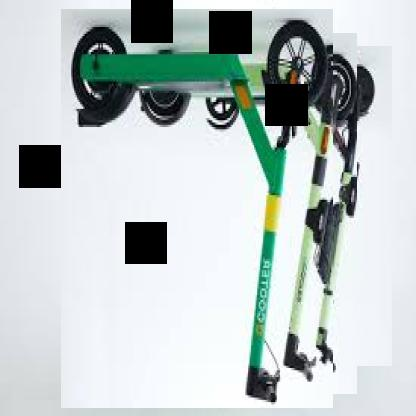kickboard: (61, 10, 333, 410), (138, 33, 357, 394), (199, 46, 392, 366)
